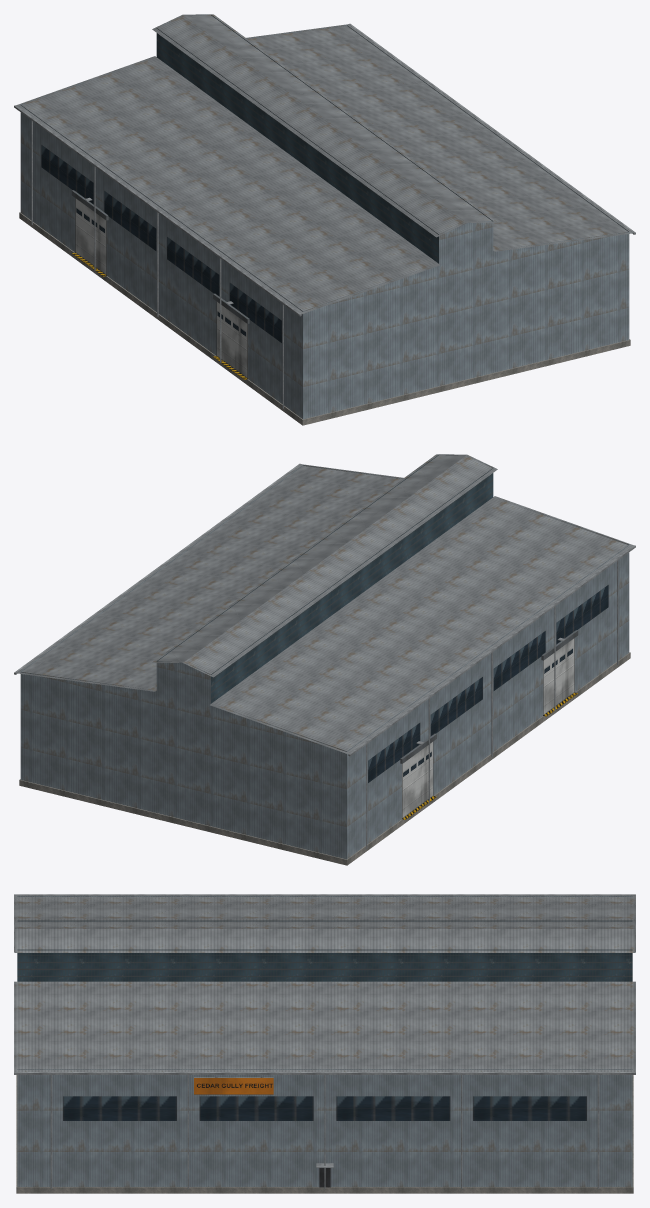
The model's file is wh_lantern.glb.
3 renders of one model, top to bottom at view 1: azimuth 30°, elevation 25°; view 2: azimuth 150°, elevation 25°; view 3: azimuth 270°, elevation 25°, orthographic. The views are drawn at different scales.
Parts seen in each view (by area): view 1: wh_lantern; view 2: wh_lantern; view 3: wh_lantern.
Part boxes in pixels (x1,y1,x2,y2): wh_lantern: (14,14,635,425); wh_lantern: (14,454,635,865); wh_lantern: (14,894,635,1193).
Bounding box in the file's own units: 37.4 × 17.2 × 54.6.
Materials: 1 (1 with a texture image).
